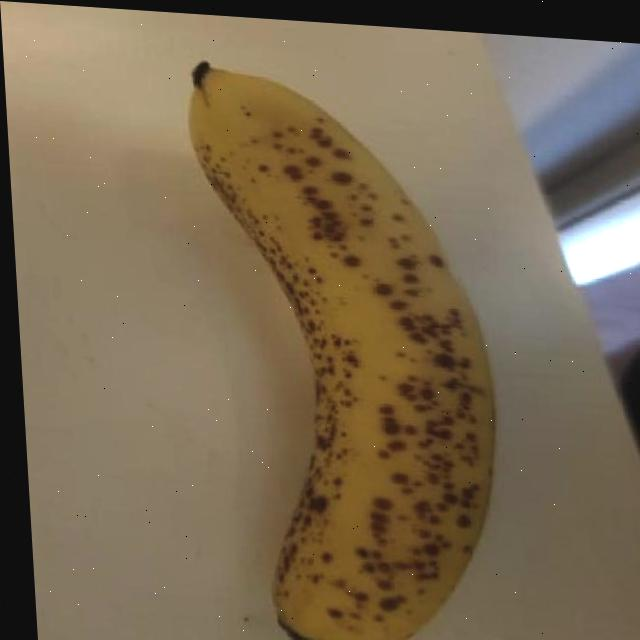banana: (176, 58, 513, 640)
